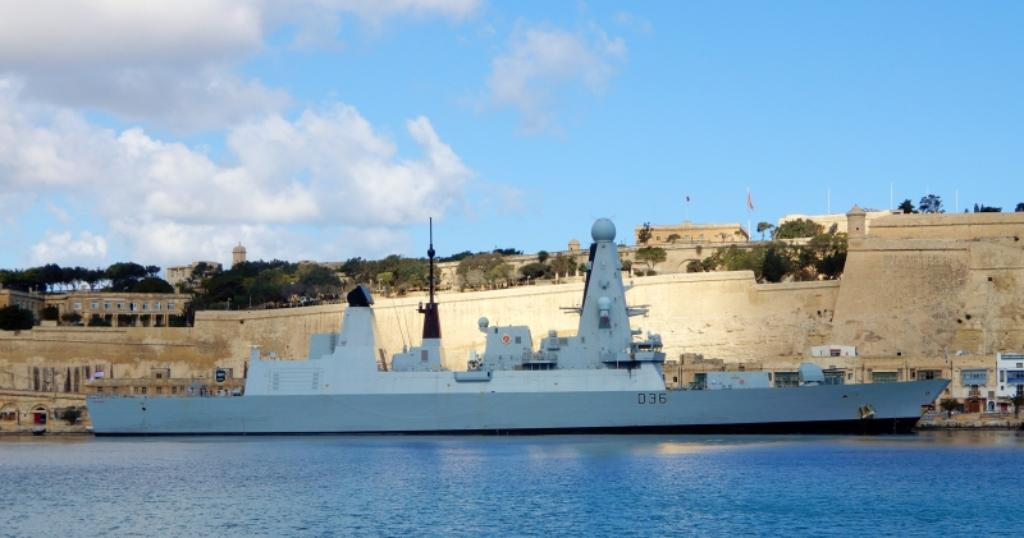Warship: (84, 212, 952, 436)
